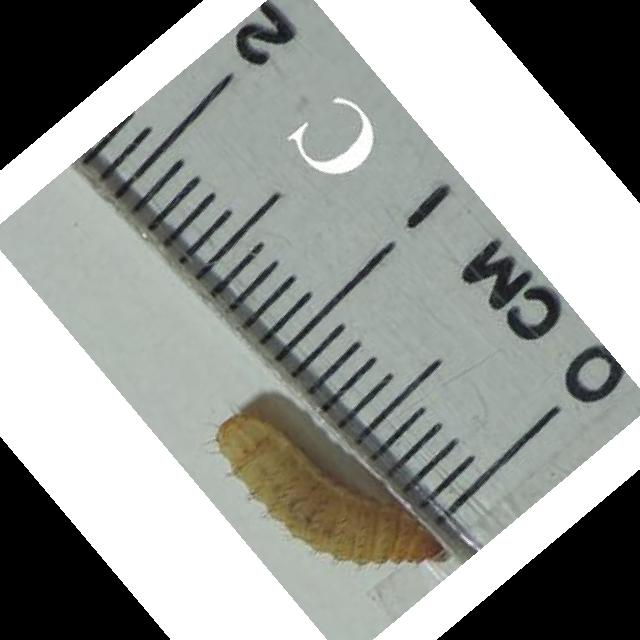Maggot: (214, 411, 447, 566)
